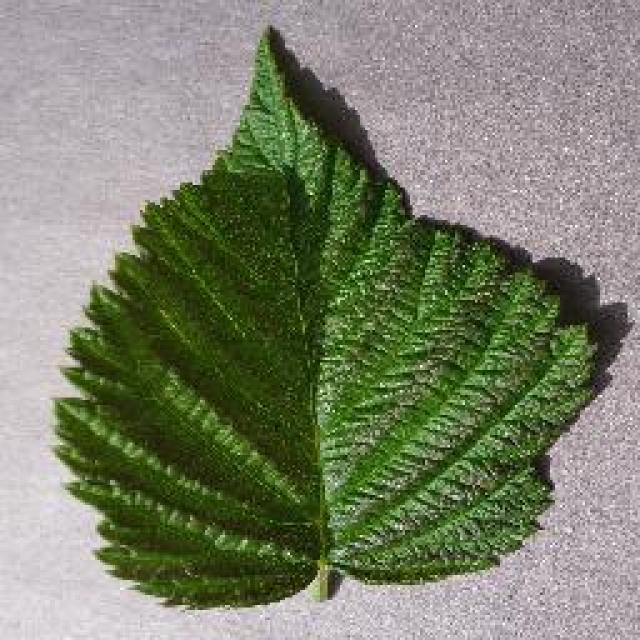Ras_healthy: (53, 103, 566, 603)
